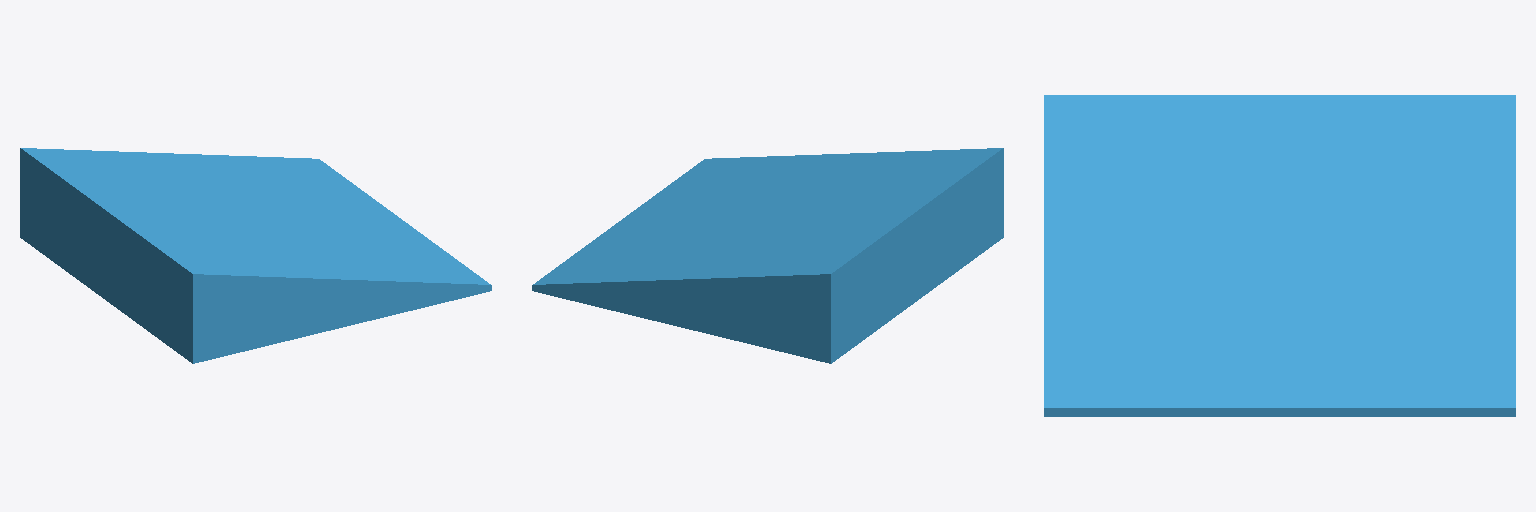
robot.urdf — Y_positive_15_lifted_size_30:
<?xml version="1.0" ?>
<robot name="Y_positive_15_lifted_size_30">
<!-- Used for fixing robot to Gazebo 'base_link' -->

<link name="world"/>

  <joint name="fixed" type="fixed">
    <parent link="world"/>
    <child link="Y_positive_15_lifted_size_30__link"/>
  </joint>

  <link name="Y_positive_15_lifted_size_30__link">
    <inertial>
      <mass value="10"/>
      <inertia ixx="1.0" ixy="0.0" ixz="0.0" iyy="1.0" iyz="0.0" izz="1.0"/>
    </inertial>
    <collision>
      <geometry>
         <mesh filename="package://pal_gazebo_worlds/models/Y_positive_15_lifted/meshes/15_degree_slope_lifted_size_30.stl" scale="0.00999 0.00999 0.00999"/>
      </geometry>
      <surface>
        <friction>
          <ode>
            <mu1 value="1.0" />
            <mu2 value="1.0" />
            <kp  value="1e5" />
            <kd  value="1e2" />
            <maxVel  value="100.0" />
            <minDepth  value="0.0" />
            <dampingFactor>0.01</dampingFactor>
          </ode>
        </friction>
      </surface>
    </collision>
    <visual>
      <geometry>
        <mesh filename="package://pal_gazebo_worlds/models/Y_positive_15_lifted/meshes/15_degree_slope_lifted_size_30.stl" scale="0.00999 0.00999 0.00999"/>
      </geometry>
      <material name="white">
      </material>
    </visual>
  </link>



</robot>

--- Facts derived from the render (not from the file) ---
3 views of the same robot in one strip: view 1: azimuth 30°, elevation 25°; view 2: azimuth 150°, elevation 25°; view 3: azimuth 270°, elevation 25° (orthographic).
Robot: Y_positive_15_lifted_size_30 — 2 links, 1 joints (1 fixed); root link world; default pose: all joints at 0.
Visible links, largest first — view 1: Y_positive_15_lifted_size_30__link; view 2: Y_positive_15_lifted_size_30__link; view 3: Y_positive_15_lifted_size_30__link.
Link boxes in pixels (box(x1,y1,x2,y2)): Y_positive_15_lifted_size_30__link: box(20, 148, 491, 363); Y_positive_15_lifted_size_30__link: box(532, 148, 1003, 363); Y_positive_15_lifted_size_30__link: box(1044, 95, 1515, 416).
Bounding box of the posed robot: 0.2997 × 0.2997 × 0.0863 m (x, y, z).
Meshes: 1 distinct files referenced, 1 mesh visuals loaded (1 binary STL).